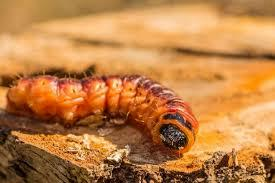Lobster Moth: (5, 66, 203, 156)
